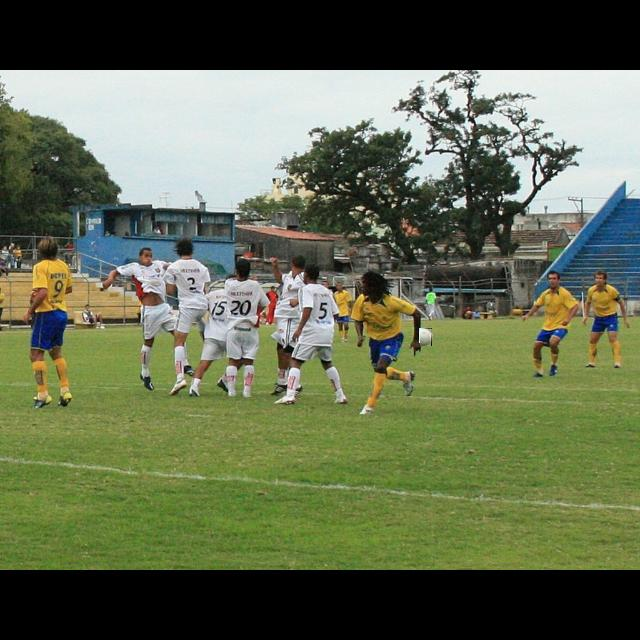Football: (420, 328, 432, 346)
